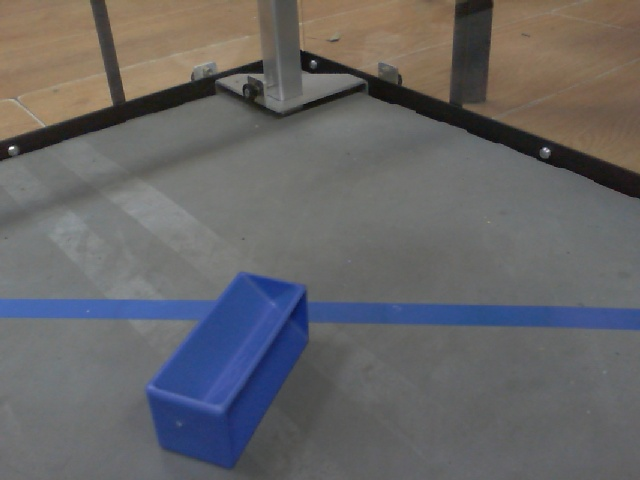BlueSample: (142, 269, 312, 472)
